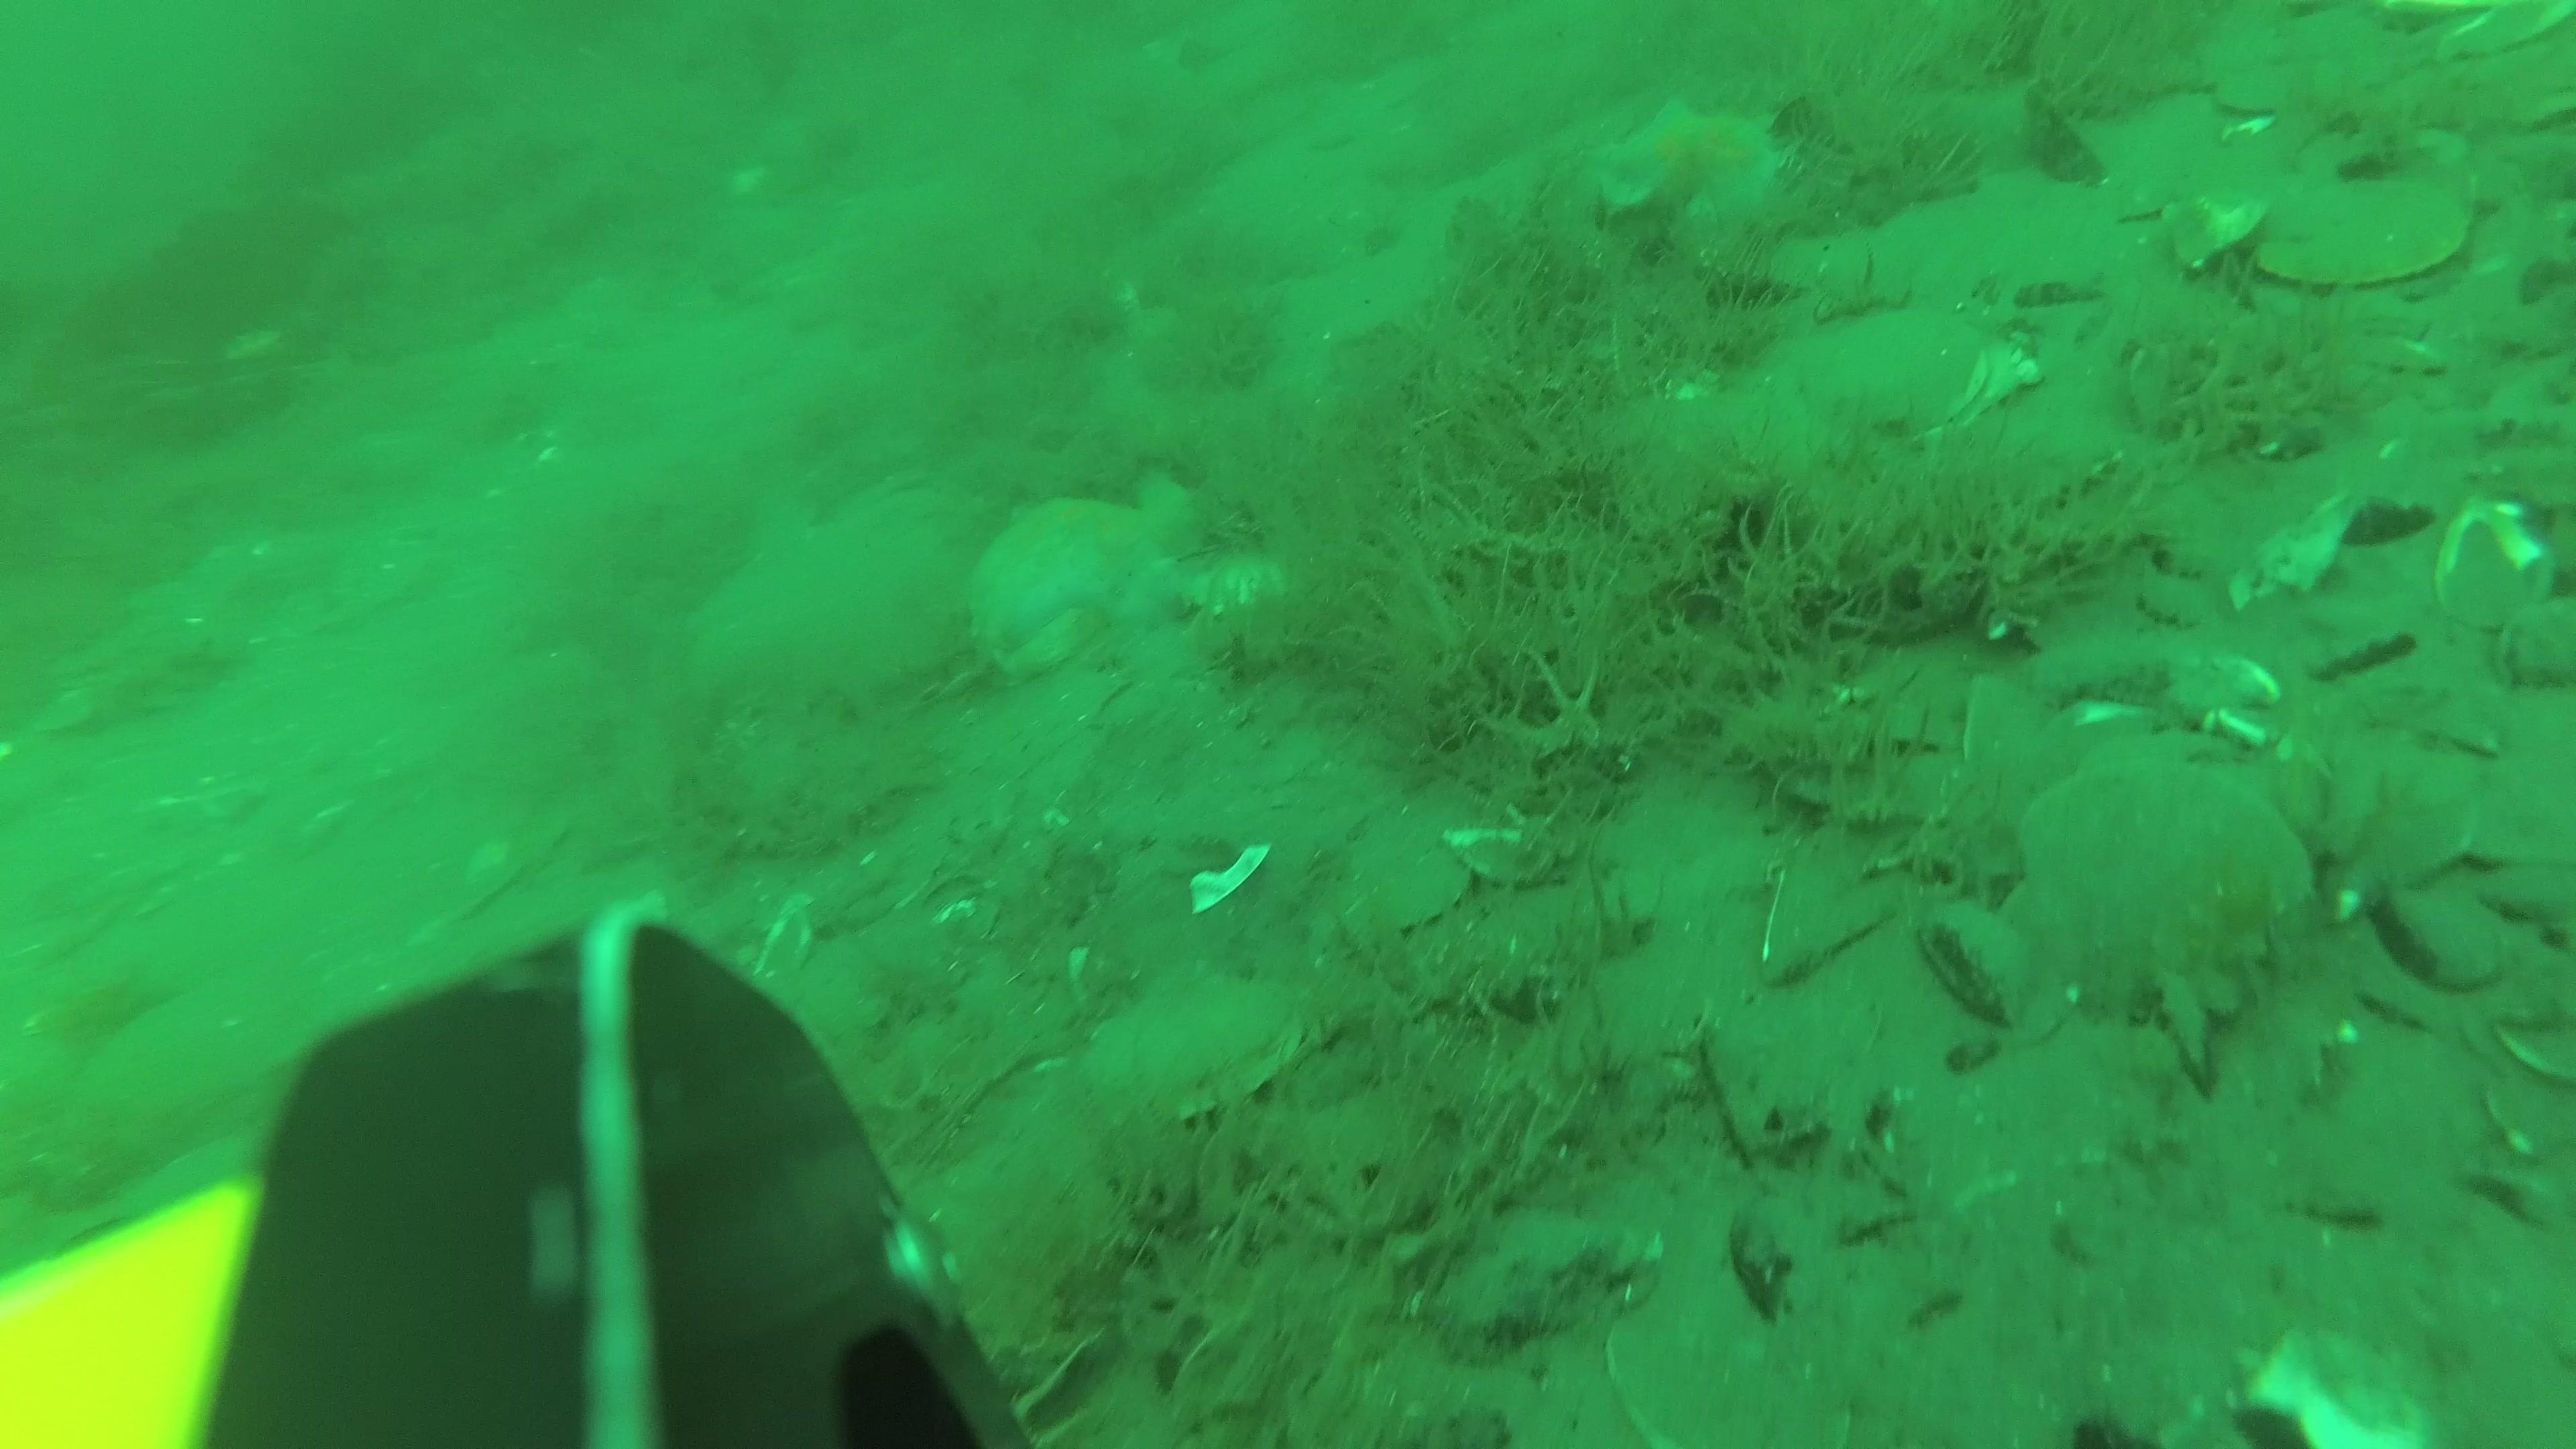scallop: (2006, 764, 2302, 1012), (1079, 978, 1311, 1109), (1803, 292, 2005, 430), (2259, 163, 2465, 283)
starfish: (975, 488, 1198, 681), (1594, 96, 1798, 230)
